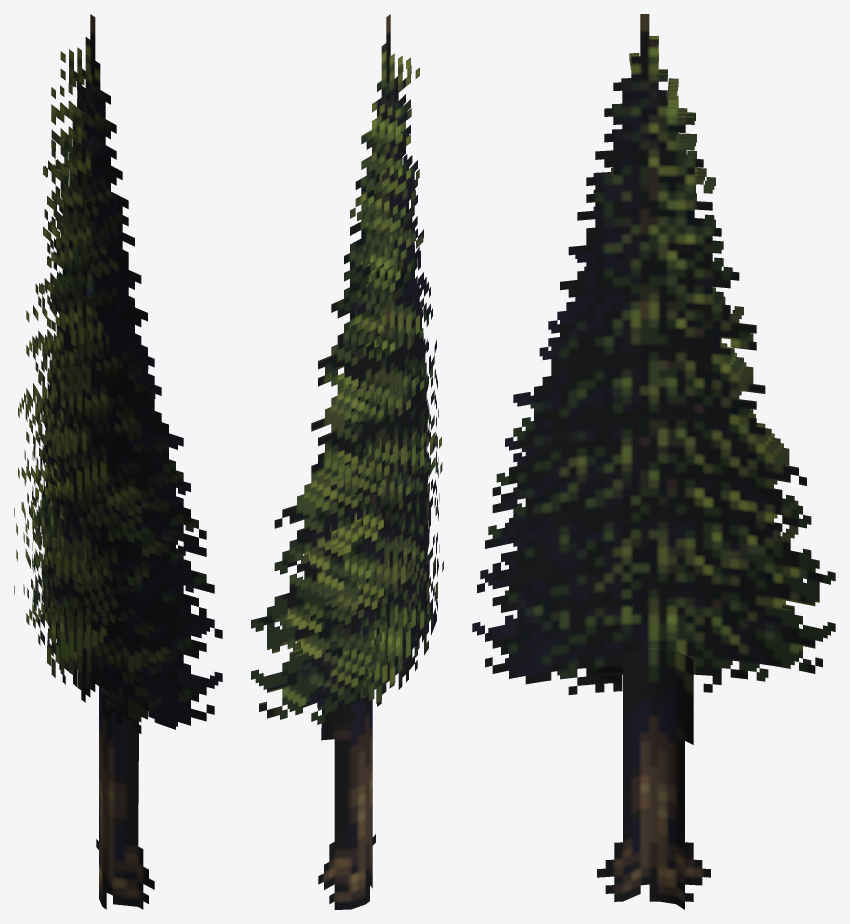
The model's file is ObjMD_Tree_H.FBX.
The picture shows the model from 3 angles, left to right: view 1: azimuth 30°, elevation 25°; view 2: azimuth 150°, elevation 25°; view 3: azimuth 270°, elevation 25°; orthographic projection. The views are drawn at different scales.
Parts seen in each view (by area): view 1: ObjMD_Tree_H; view 2: ObjMD_Tree_H; view 3: ObjMD_Tree_H.
Part boxes in pixels (x1=…): ObjMD_Tree_H: x1=14, y1=14, x2=222, y2=909; ObjMD_Tree_H: x1=251, y1=14, x2=443, y2=909; ObjMD_Tree_H: x1=472, y1=14, x2=835, y2=909.
Size of the model in its own units: 52.19 by 650 by 244.
